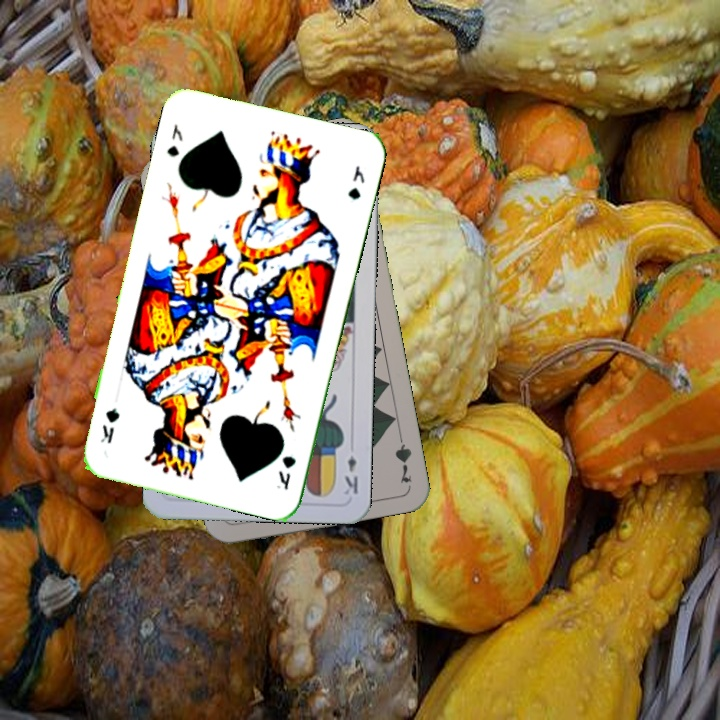EK: (340, 452, 361, 497)
G7: (391, 427, 414, 486)
GK: (272, 451, 299, 493), (162, 119, 186, 160)
